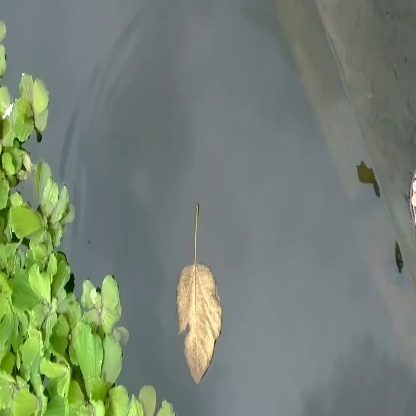leaf: (166, 196, 237, 389)
